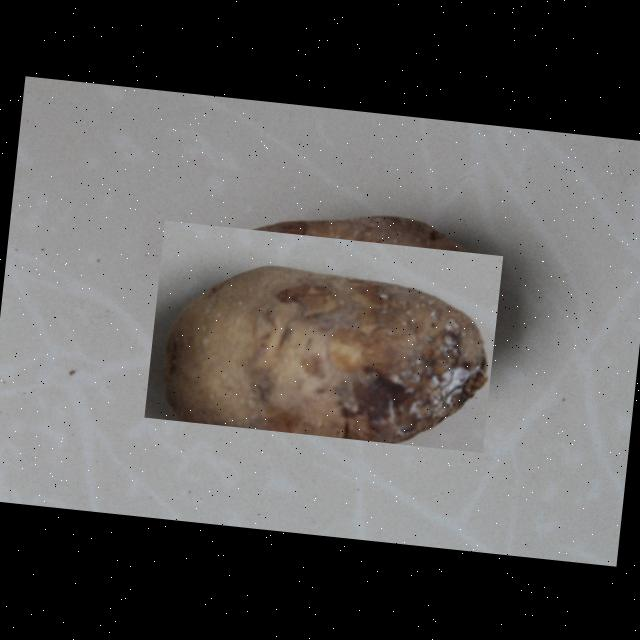Diseased-fungal potato: (143, 219, 502, 452)
